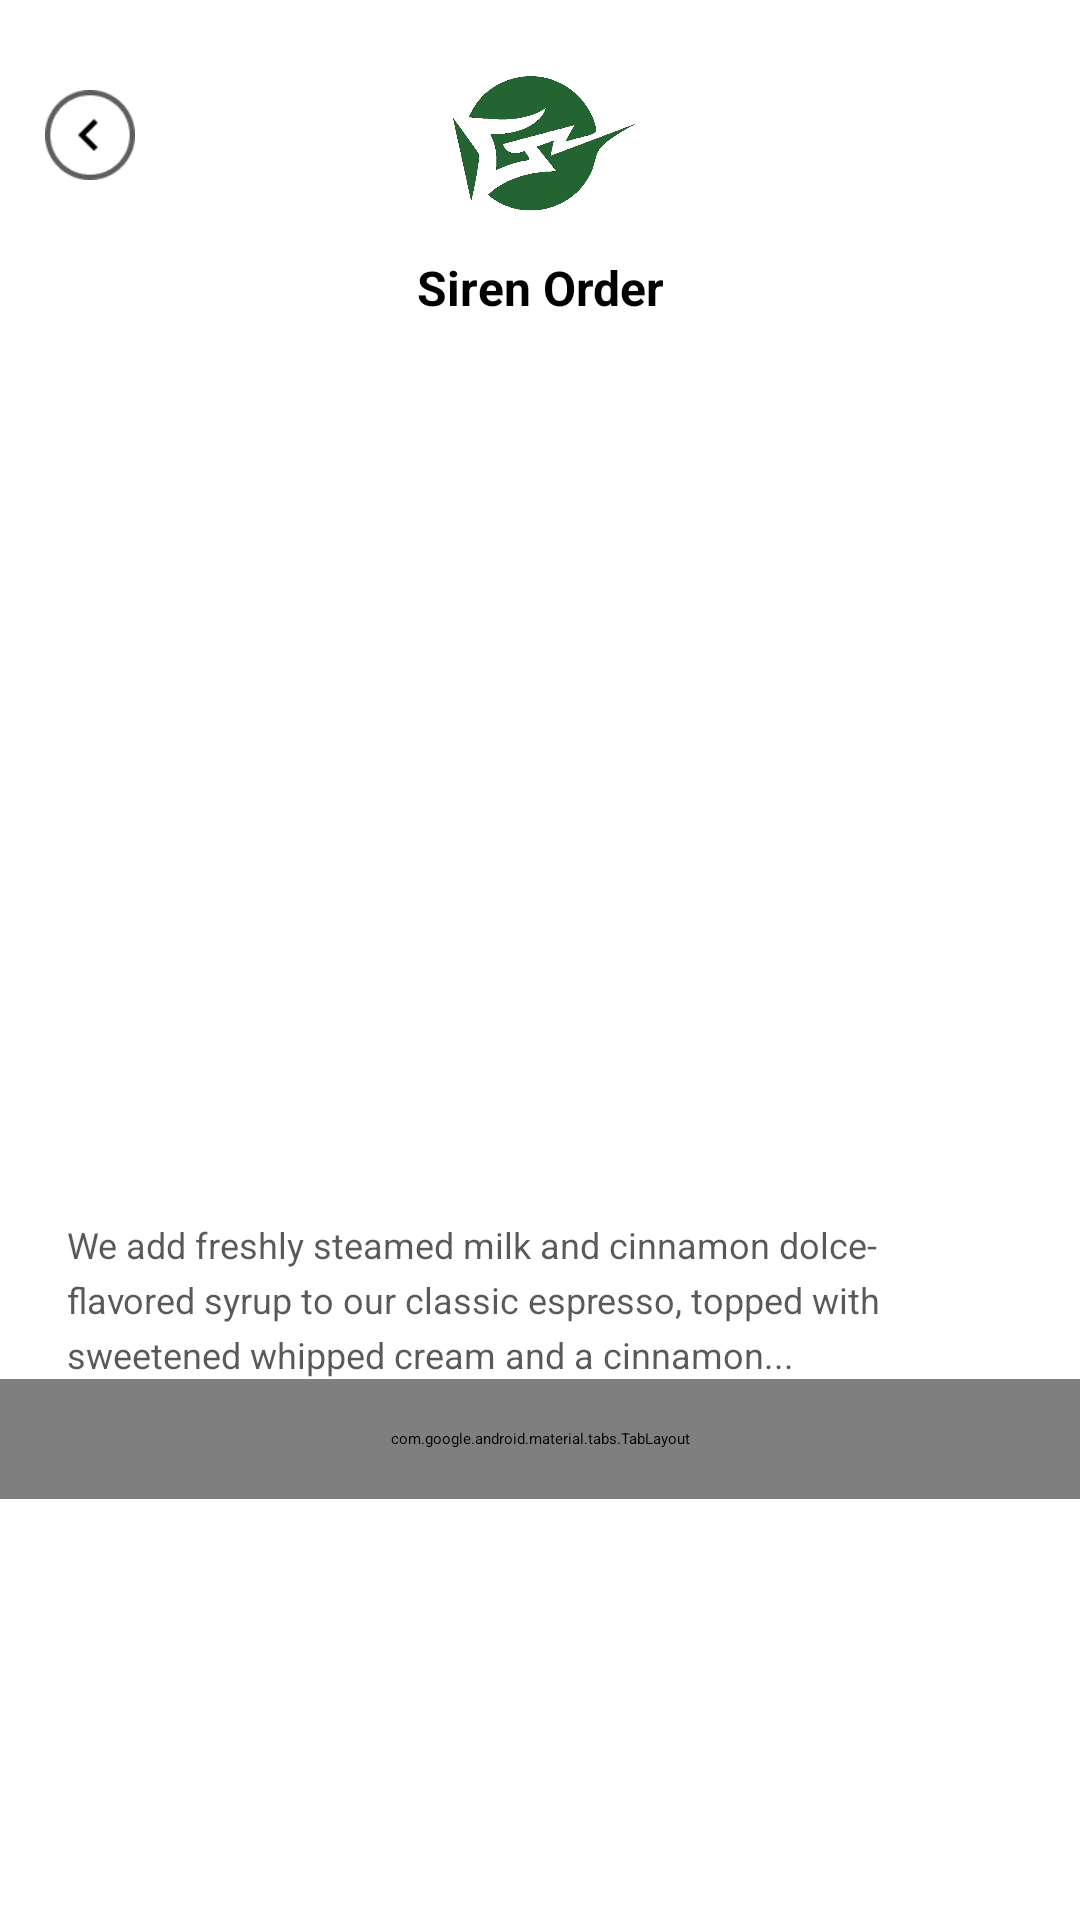

Locate icon controls on the screen. Image size 1080 × 1920, boxes as [x1, y1, x2, y2].
back: [45, 90, 135, 180]
